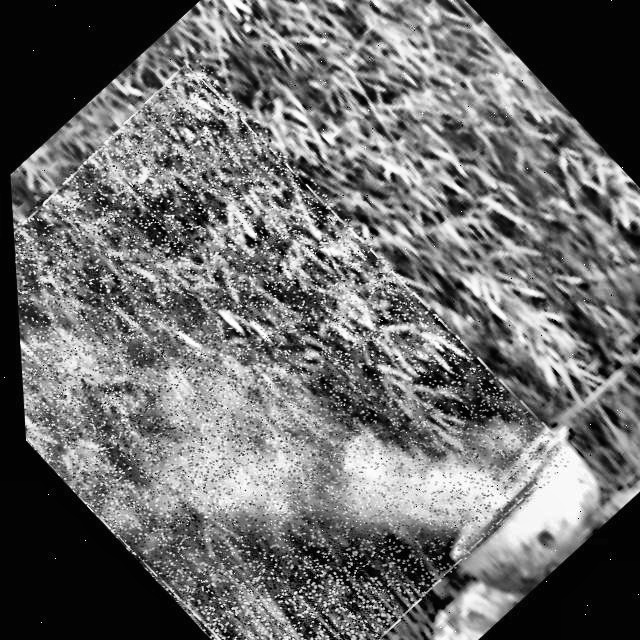Smoke: (3, 56, 575, 640)
